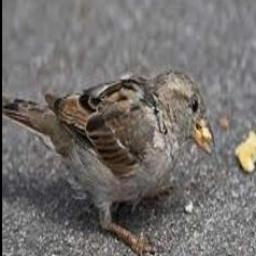Sparrow: (2, 69, 216, 256)
